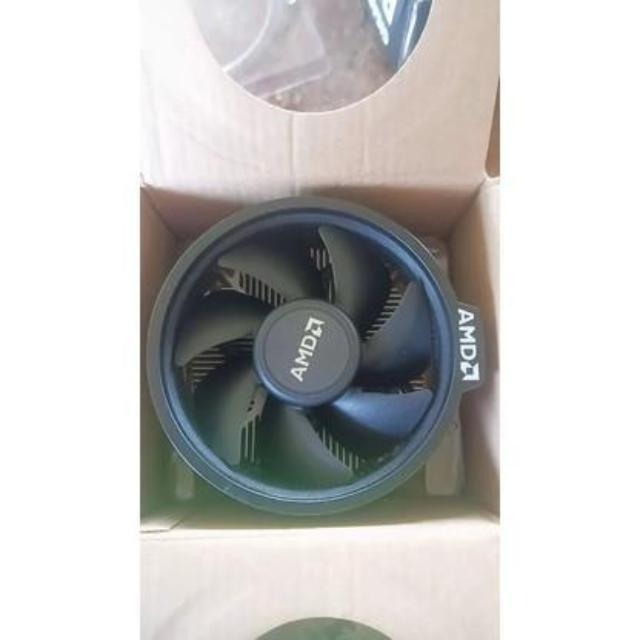CPU_Fan: (148, 186, 488, 520)
